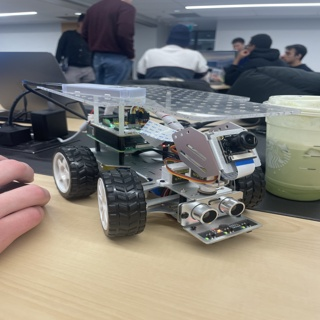vehicle: (32, 78, 295, 241)
